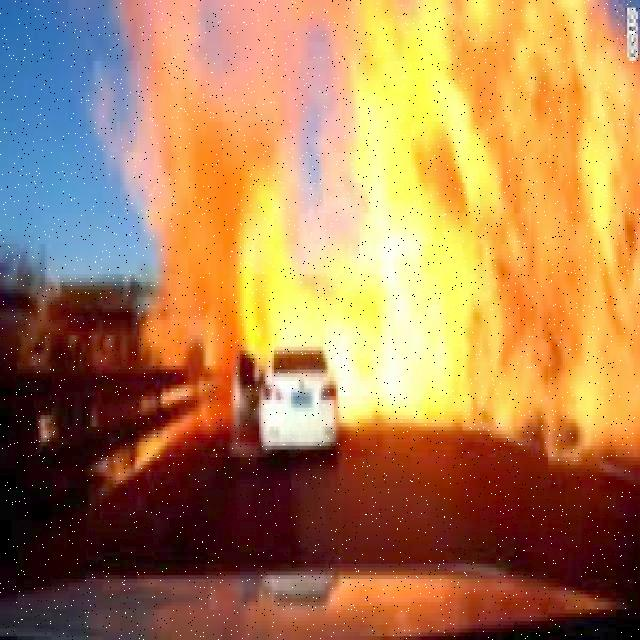fire: (235, 12, 640, 459)
